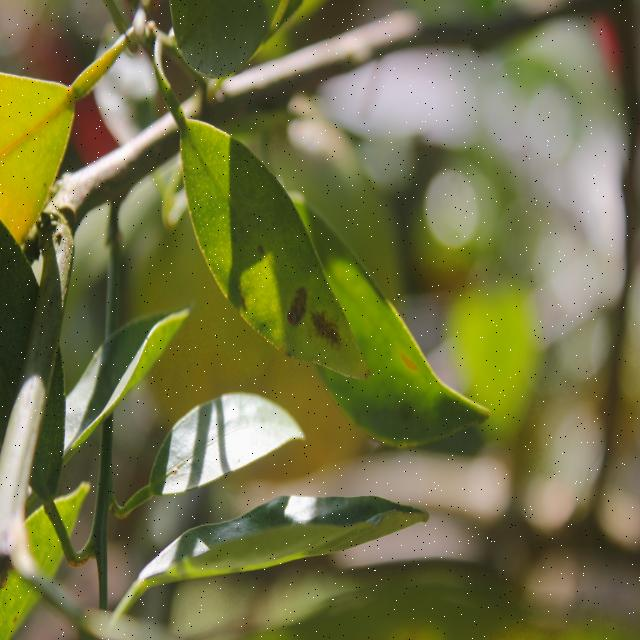canker: (264, 258, 346, 358)
